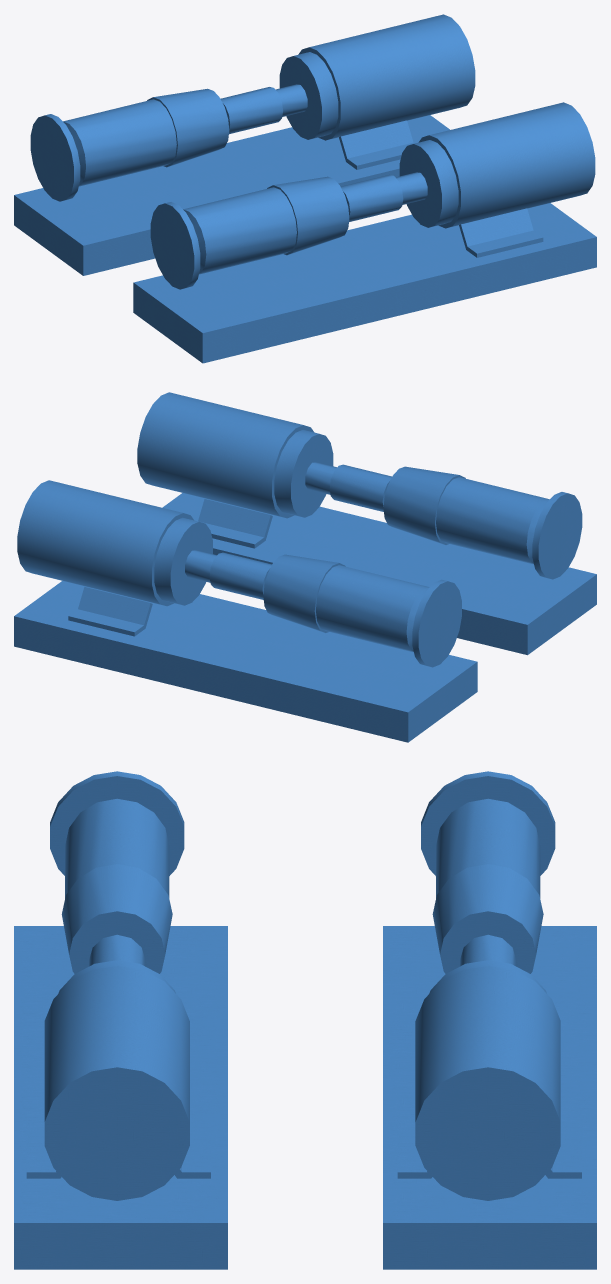
Rendered from jinshuiben.obj.
The picture shows the model from 3 angles, top to bottom: view 1: azimuth 30°, elevation 25°; view 2: azimuth 150°, elevation 25°; view 3: azimuth 270°, elevation 25°; orthographic projection. The views are drawn at different scales.
Visible parts, largest first — view 1: _拉伸_[4815094], _旋转_[4815144], _旋转_[4815120], _拉伸_[4815105], _拉伸_[4815168]; view 2: _拉伸_[4815094], _旋转_[4815120], _旋转_[4815144], _拉伸_[4815168], _拉伸_[4815105]; view 3: _拉伸_[4815094], _旋转_[4815120], _旋转_[4815144], _拉伸_[4815168], _拉伸_[4815105].
Boxes of the visible parts, box(x1,y1,x2,y2) form: _拉伸_[4815094]: box(14, 115, 596, 363); _旋转_[4815144]: box(30, 14, 475, 201); _旋转_[4815120]: box(150, 102, 595, 289); _拉伸_[4815105]: box(459, 208, 543, 257); _拉伸_[4815168]: box(339, 120, 414, 169); _拉伸_[4815094]: box(14, 493, 596, 742); _旋转_[4815120]: box(137, 392, 582, 579); _旋转_[4815144]: box(17, 480, 461, 667); _拉伸_[4815168]: box(68, 587, 152, 636); _拉伸_[4815105]: box(198, 499, 272, 548); _拉伸_[4815094]: box(14, 926, 596, 1269); _旋转_[4815120]: box(44, 771, 189, 1200); _旋转_[4815144]: box(415, 771, 560, 1200); _拉伸_[4815168]: box(397, 1122, 581, 1178); _拉伸_[4815105]: box(26, 1122, 210, 1178).
Size of the model in its own units: 611 by 196 by 496.
Materials: 1 (1 with a texture image).
